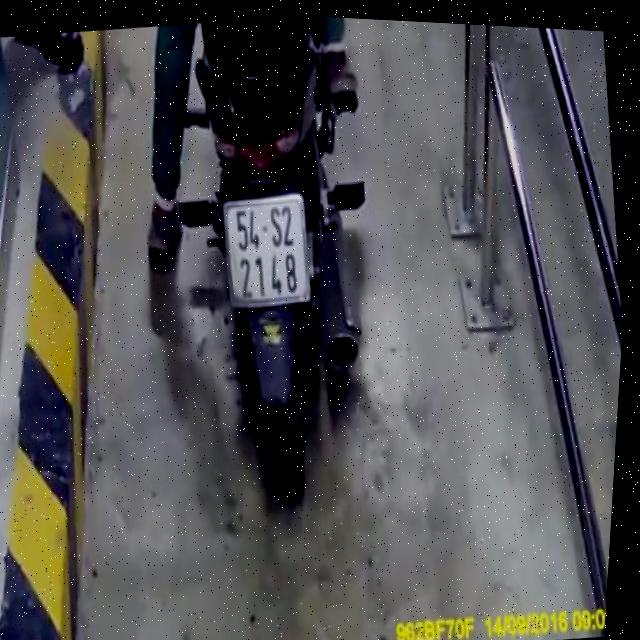motorcycle: (141, 9, 419, 515)
plate: (212, 183, 325, 319)
